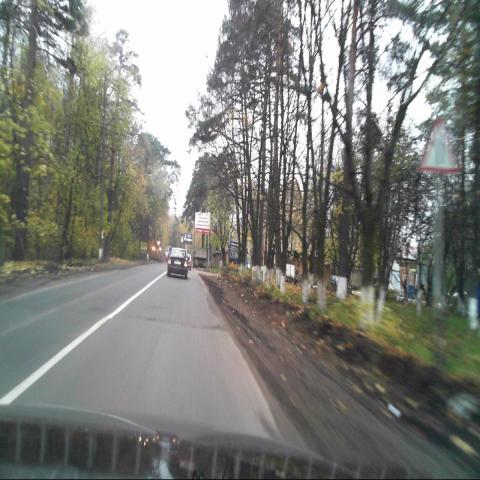1_11_1: (419, 118, 460, 172)
